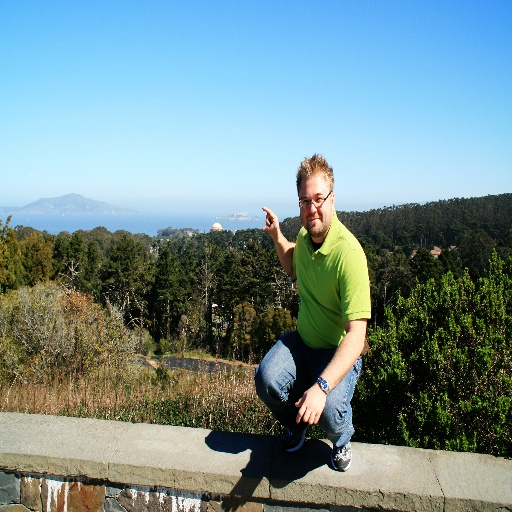hand: (260, 191, 291, 269), (293, 380, 326, 427), (261, 206, 280, 240)
